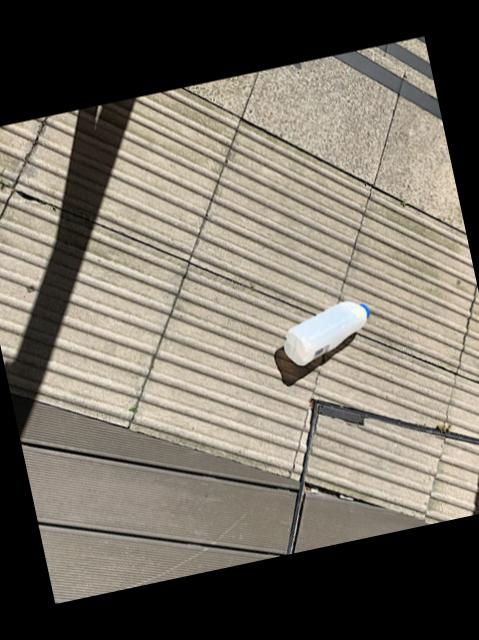plastic: (282, 300, 366, 364)
